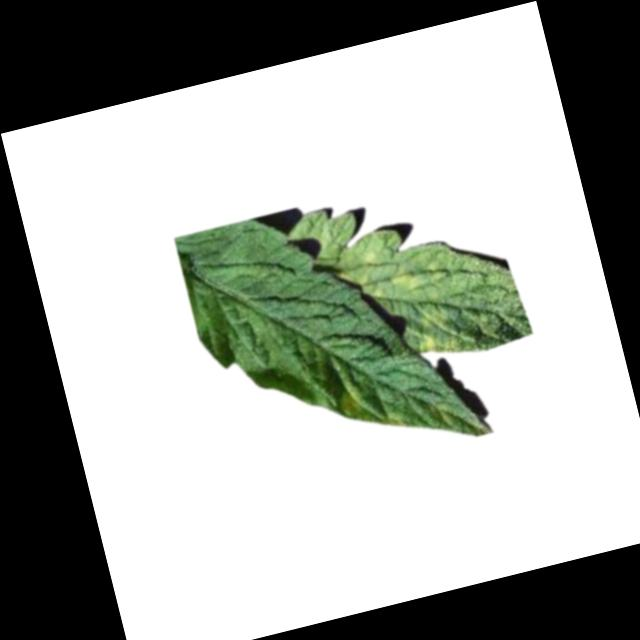Leaf_Mold: (408, 297, 468, 360), (330, 373, 371, 419), (385, 255, 426, 298), (378, 403, 411, 432)
